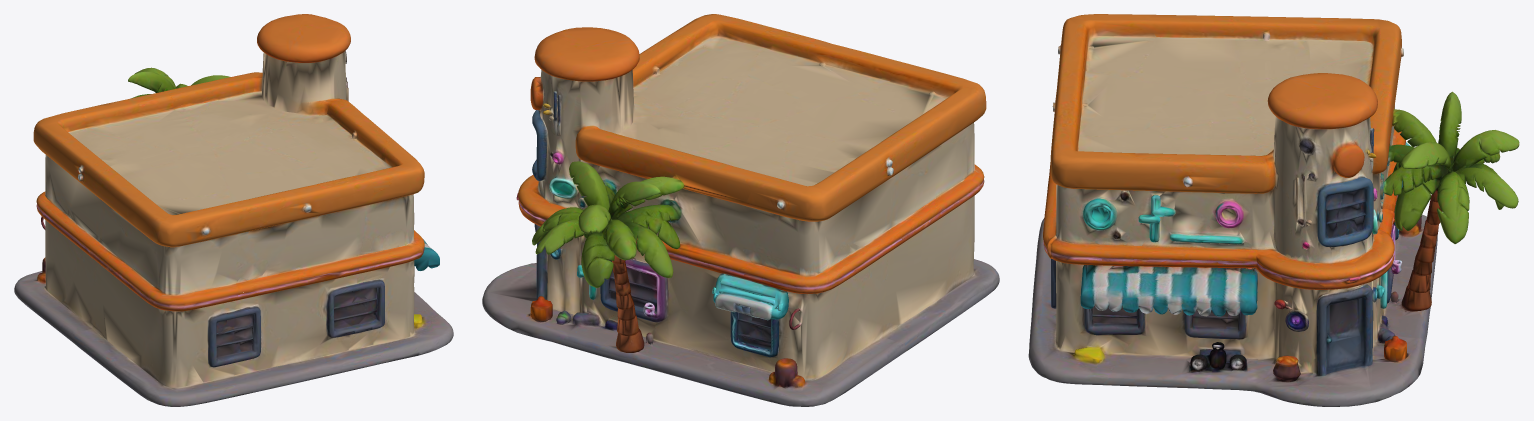
File: corner-arcade-v3-diet.glb
3 renders of one model, left to right at view 1: azimuth 30°, elevation 25°; view 2: azimuth 150°, elevation 25°; view 3: azimuth 270°, elevation 25°, orthographic. The views are drawn at different scales.
Visible parts, largest first — view 1: tripo_node_bbae5180-cb17-4b6f-93a1-461609294f1d; view 2: tripo_node_bbae5180-cb17-4b6f-93a1-461609294f1d; view 3: tripo_node_bbae5180-cb17-4b6f-93a1-461609294f1d.
Boxes of the visible parts, x1=… form: tripo_node_bbae5180-cb17-4b6f-93a1-461609294f1d: x1=14, y1=14, x2=453, y2=406; tripo_node_bbae5180-cb17-4b6f-93a1-461609294f1d: x1=482, y1=14, x2=999, y2=406; tripo_node_bbae5180-cb17-4b6f-93a1-461609294f1d: x1=1028, y1=14, x2=1519, y2=406.
Size of the model in its own units: 0.9194 by 0.5989 by 0.9802.
Materials: 1 (1 with a texture image).
